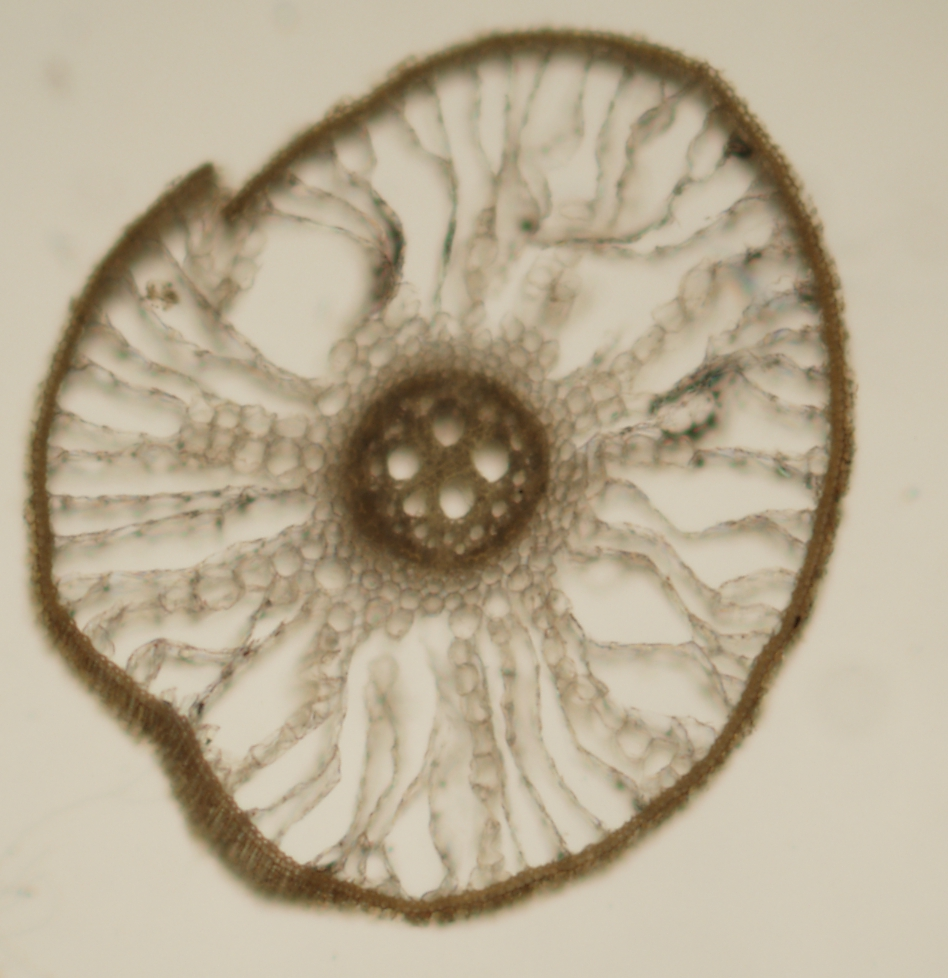lm: (472, 438, 509, 482), (439, 480, 475, 518), (432, 407, 464, 446), (387, 445, 420, 479), (403, 487, 429, 516)
